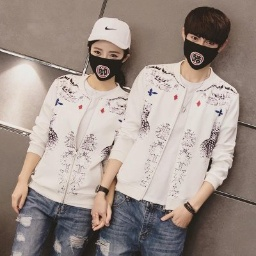face: (180, 5, 233, 69), (85, 34, 131, 82)
